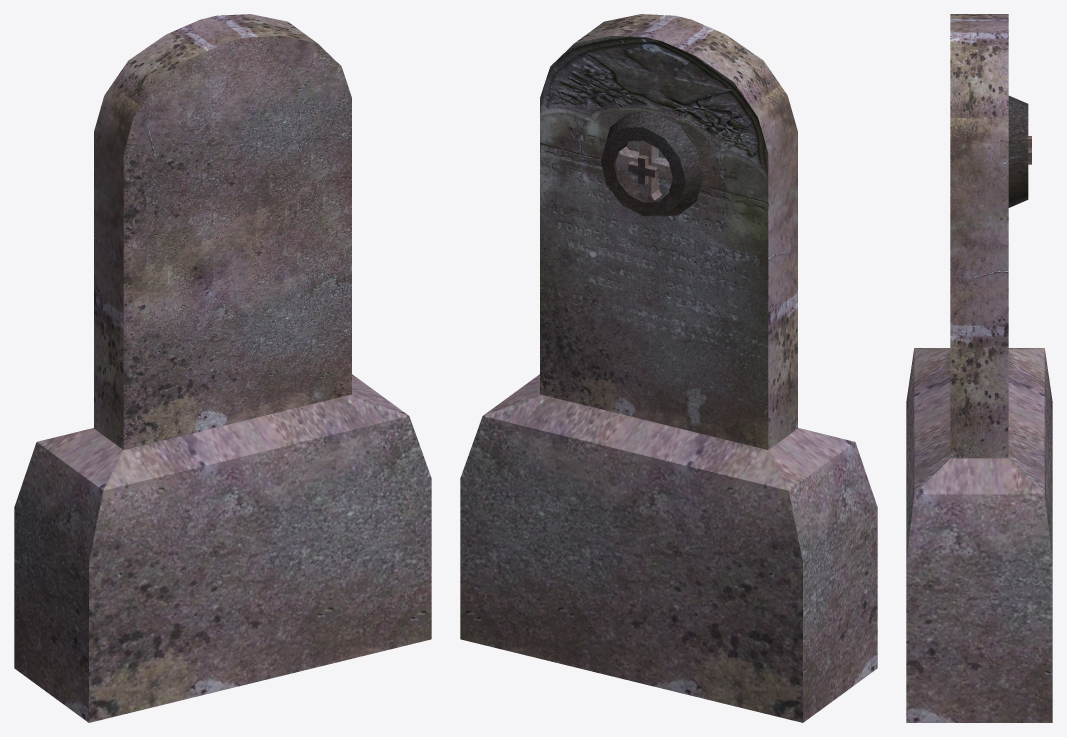
File: Headstone_02.fbx
3 renders of one model, left to right at view 1: azimuth 30°, elevation 25°; view 2: azimuth 150°, elevation 25°; view 3: azimuth 270°, elevation 25°, orthographic. The views are drawn at different scales.
Parts seen in each view (by area): view 1: headstone2; view 2: headstone2; view 3: headstone2.
Part boxes in pixels (<box>): headstone2: <box>14,14,431,722</box>; headstone2: <box>460,14,877,722</box>; headstone2: <box>906,14,1052,722</box>.
Size of the model in its own units: 1.12 by 1.95 by 0.4219.
